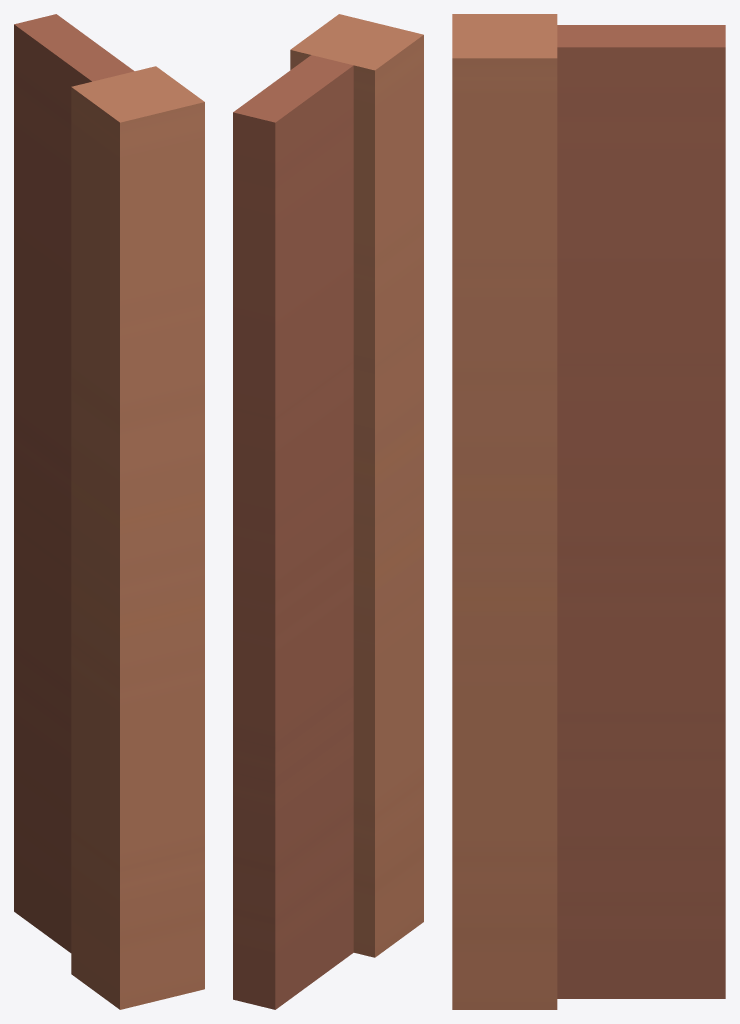
File: wall-wood-side.fbx
3 renders of one model, left to right at view 1: azimuth 30°, elevation 25°; view 2: azimuth 150°, elevation 25°; view 3: azimuth 270°, elevation 25°, orthographic. The views are drawn at different scales.
Visible parts, largest first — view 1: wall-wood-side; view 2: wall-wood-side; view 3: wall-wood-side.
Boxes of the visible parts, bbox=[...] form: wall-wood-side: bbox=[14, 14, 204, 1009]; wall-wood-side: bbox=[233, 14, 423, 1009]; wall-wood-side: bbox=[452, 14, 725, 1009].
Size of the model in its own units: 10 by 100 by 26.
Materials: 1 (1 with a texture image).
